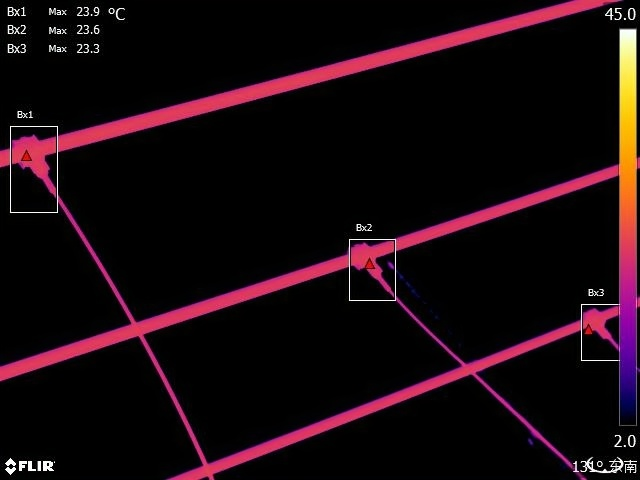clamp: (12, 130, 54, 183), (352, 243, 389, 281), (584, 307, 617, 342)
